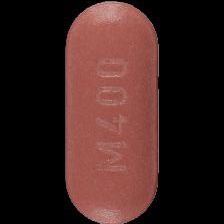0085-1733: (0, 0, 224, 224)
